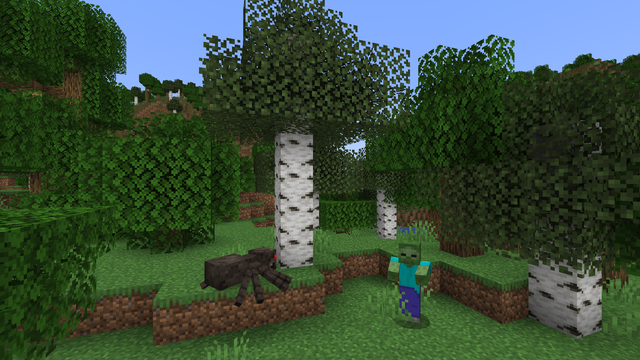araignees: (216, 241, 282, 304)
zombies: (393, 240, 427, 326)
